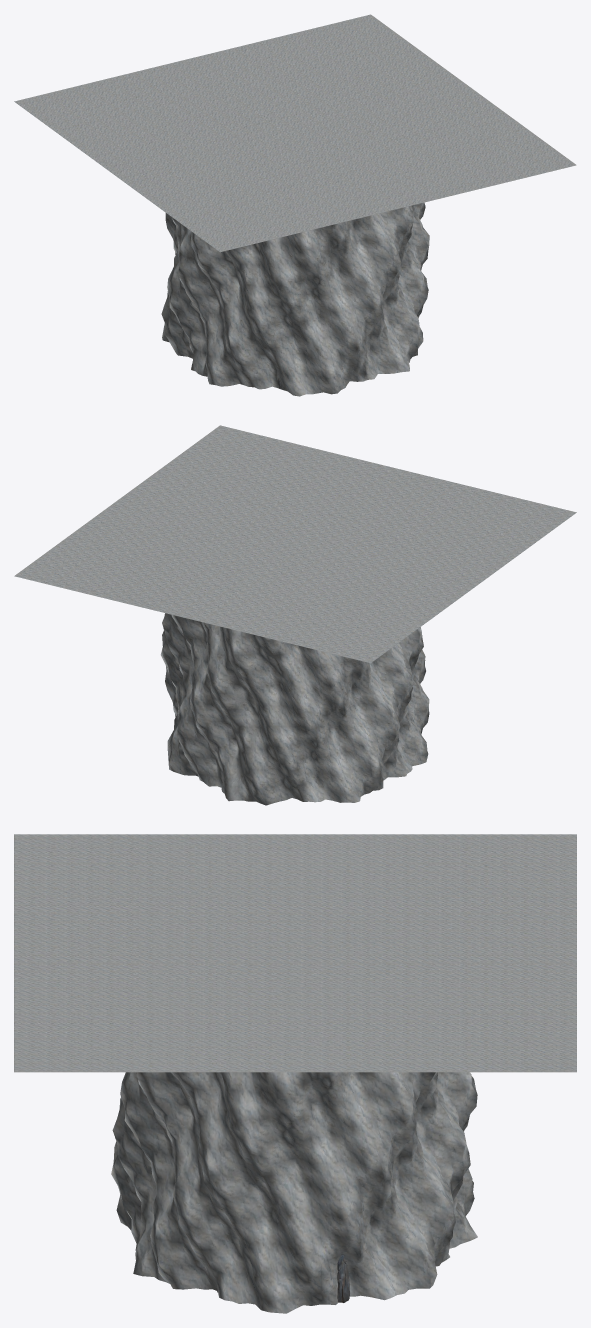
The model's file is room.glb.
3 renders of one model, top to bottom at view 1: azimuth 30°, elevation 25°; view 2: azimuth 150°, elevation 25°; view 3: azimuth 270°, elevation 25°, orthographic. The views are drawn at different scales.
Visible parts, largest first — view 1: LEDGE-TUNNEL; view 2: LEDGE-TUNNEL; view 3: LEDGE-TUNNEL.
Boxes of the visible parts, box(x1,y1,x2,y2) form: LEDGE-TUNNEL: box(14, 14, 576, 396); LEDGE-TUNNEL: box(14, 425, 576, 805); LEDGE-TUNNEL: box(14, 834, 576, 1313).
Size of the model in its own units: 95.2 by 53 by 95.2.
1 material, 1 textured.
